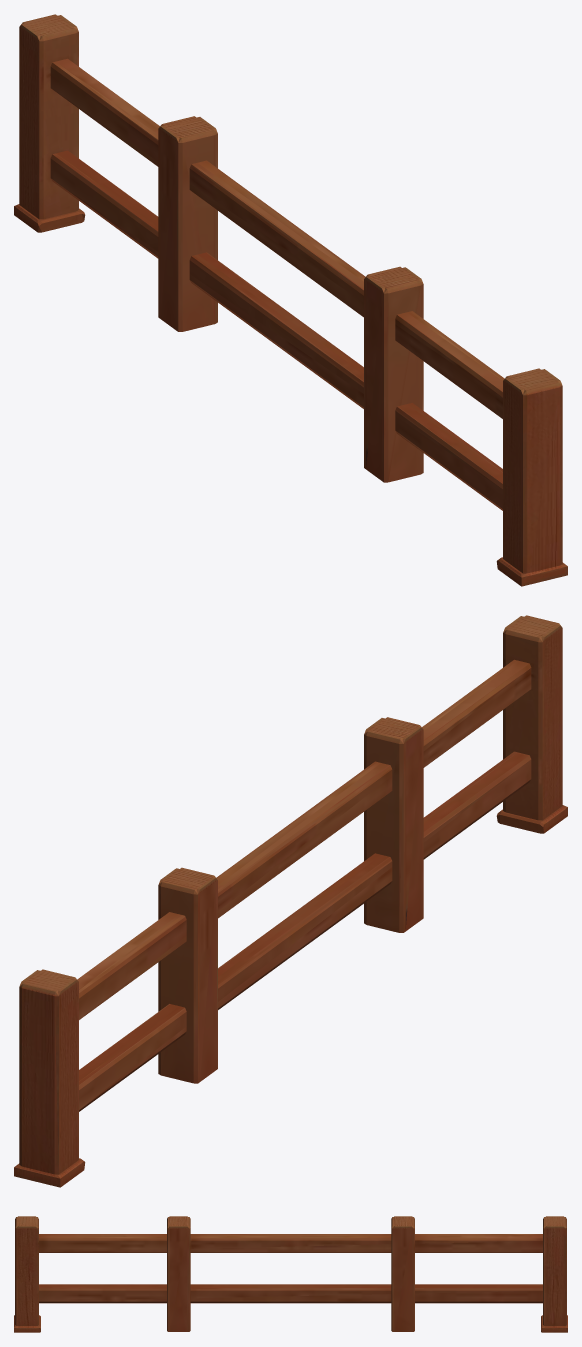
Rendered from SM_WoodenRailing.fbx.
3 renders of one model, top to bottom at view 1: azimuth 30°, elevation 25°; view 2: azimuth 150°, elevation 25°; view 3: azimuth 270°, elevation 25°, orthographic. The views are drawn at different scales.
Parts seen in each view (by area): view 1: SM_WoodenRailing; view 2: SM_WoodenRailing; view 3: SM_WoodenRailing.
Boxes of the visible parts, box(x1,y1,x2,y2) form: SM_WoodenRailing: box(14, 14, 567, 586); SM_WoodenRailing: box(14, 615, 567, 1187); SM_WoodenRailing: box(14, 1216, 567, 1332).
Bounding box in the file's own units: 30.93 × 123 × 585.
